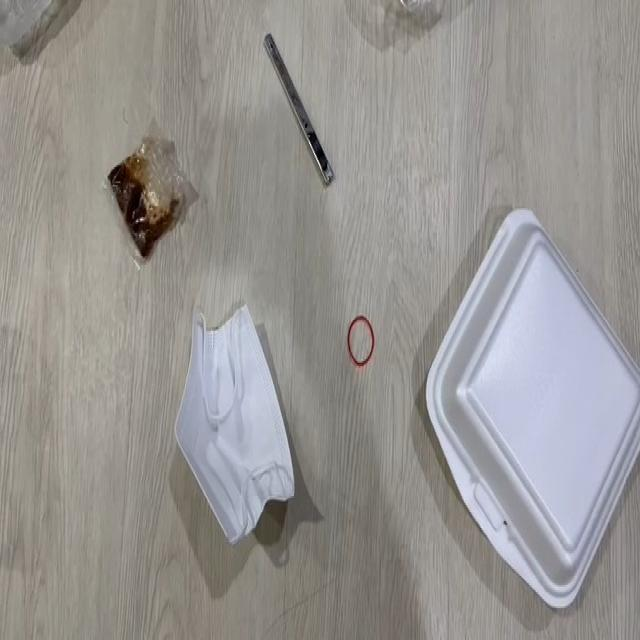Anorganik: (413, 206, 640, 611), (252, 28, 351, 192), (338, 310, 377, 370)
B3: (155, 297, 315, 555), (99, 109, 200, 273)
